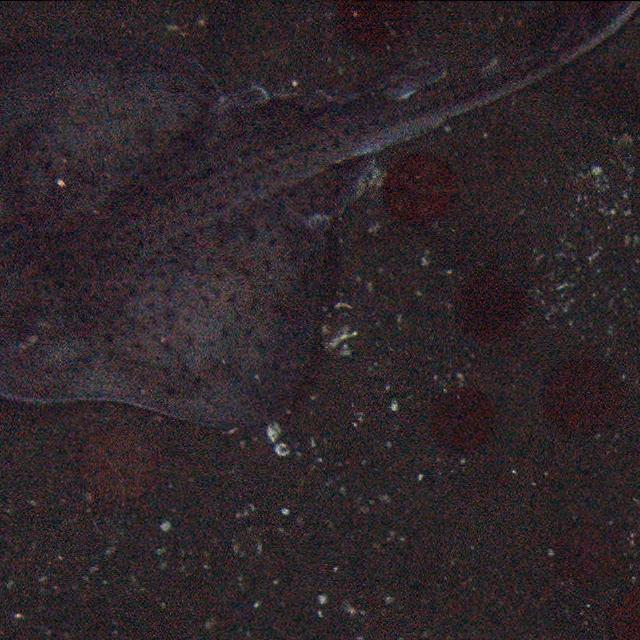skate: (2, 8, 633, 420)
